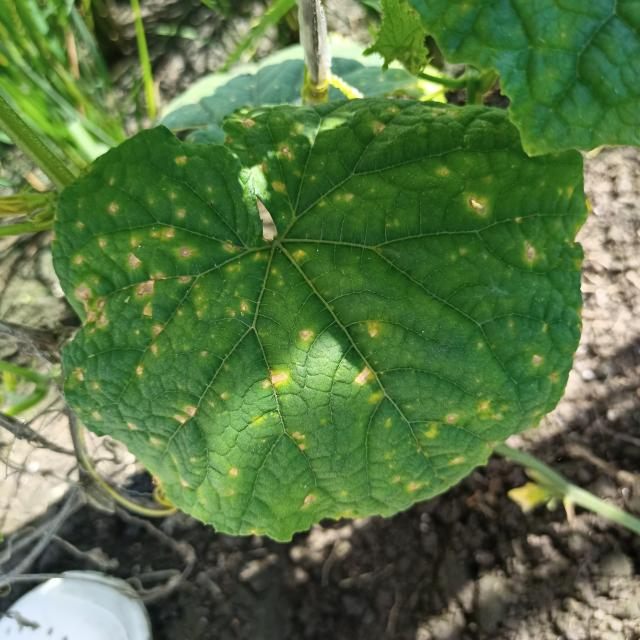disease_cucumber: (65, 98, 572, 518)
